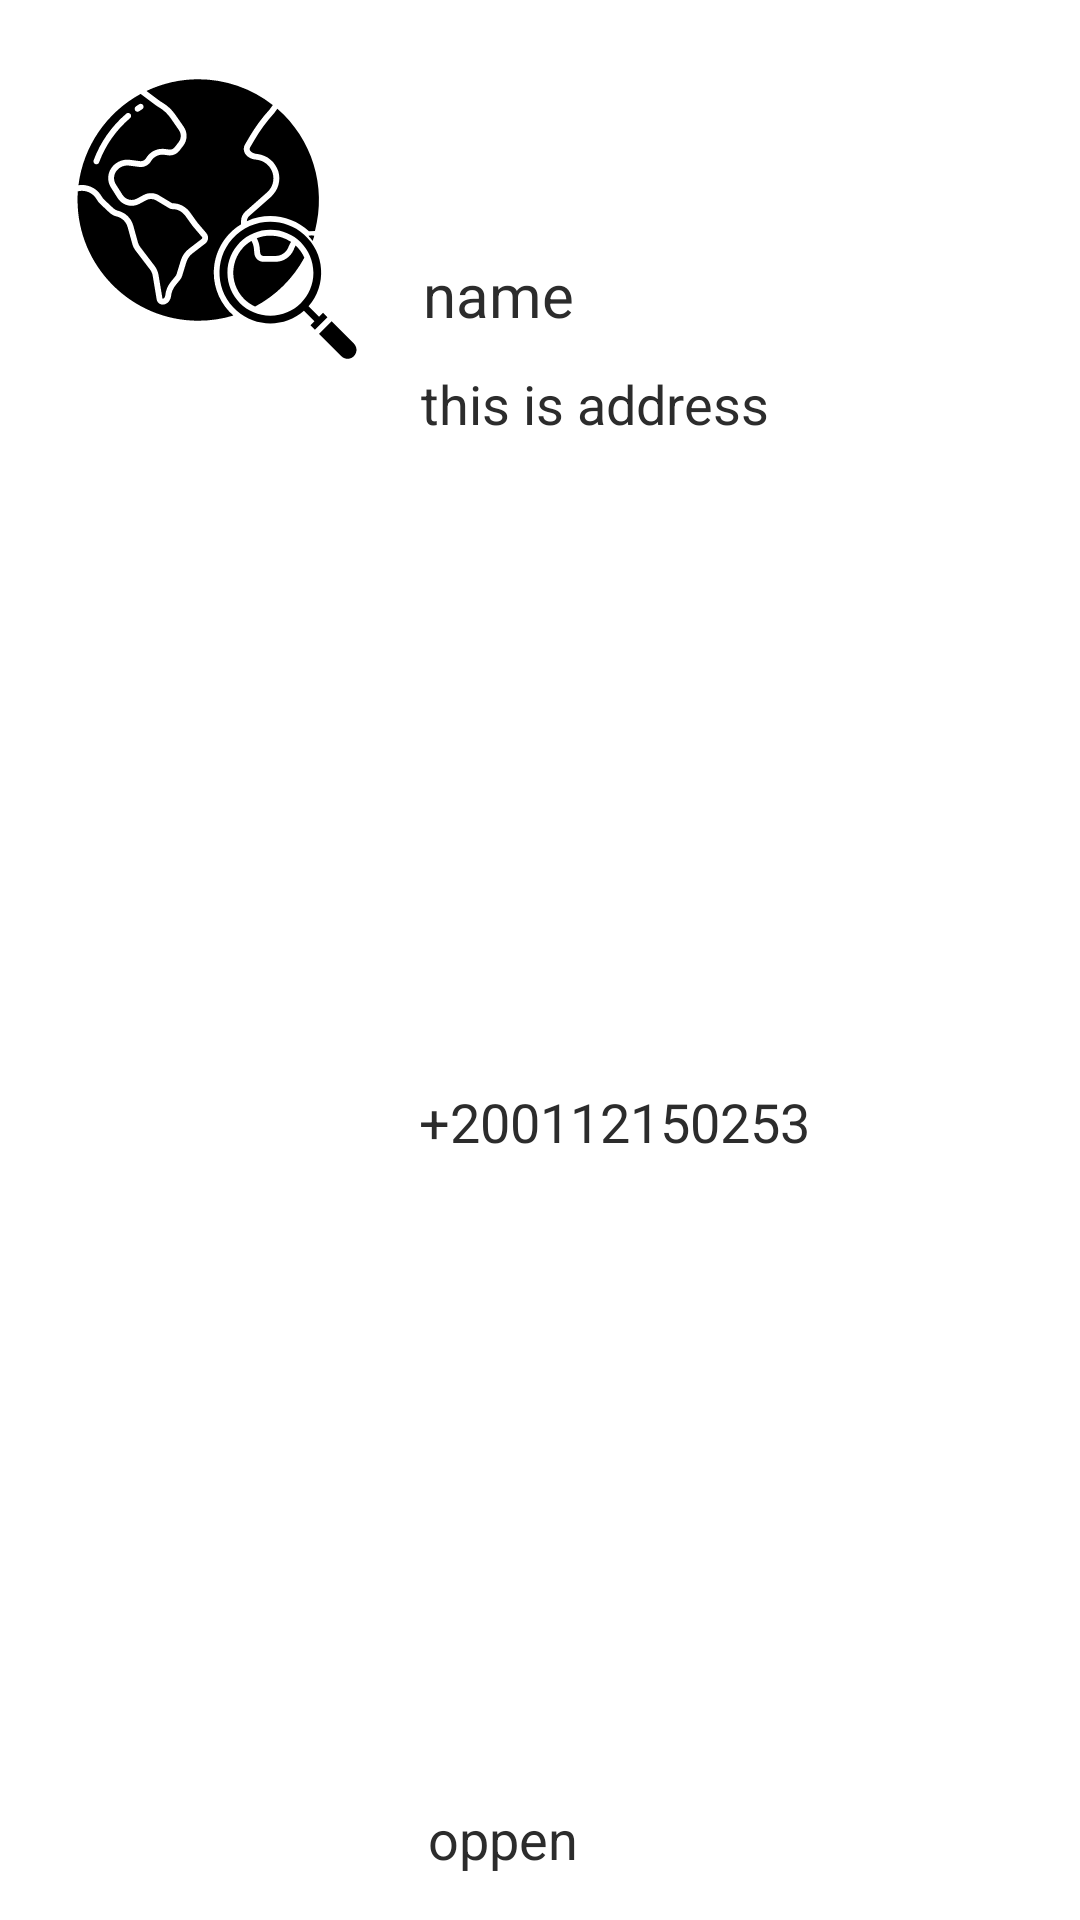

Where icons sit on this 1080px x 1920px app screen, as bbox=(x1, y1, x2, y2):
places map: bbox=(77, 79, 357, 359)
